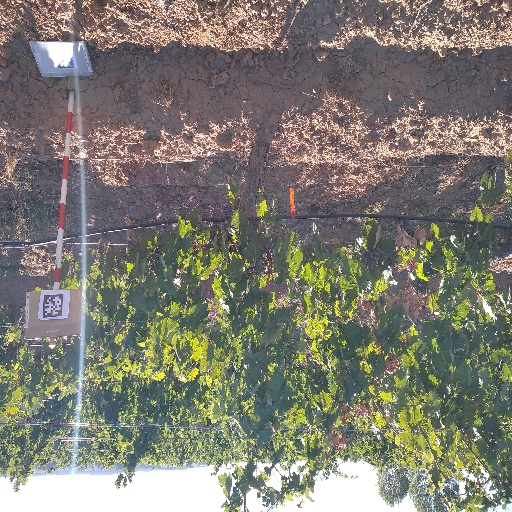QR: (42, 293, 64, 319)
